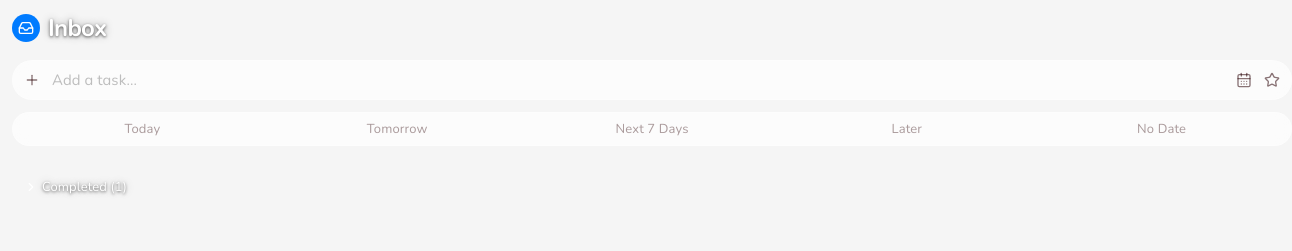
Test: TaskList › expands completed section on click
The width and height of the screenshot is (1292, 251).
Expected: the text "Done task" is not shown
Click the button "Completed (1)" at point(76, 187), box [12,178,139,196]
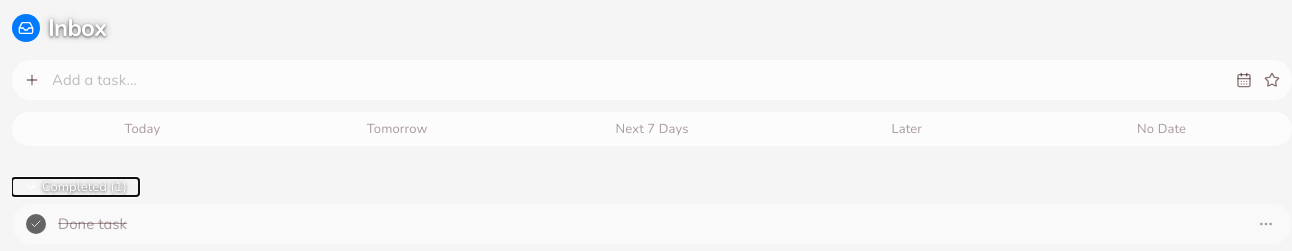
Now the text "Done task" is shown, box [58,214,127,234]
